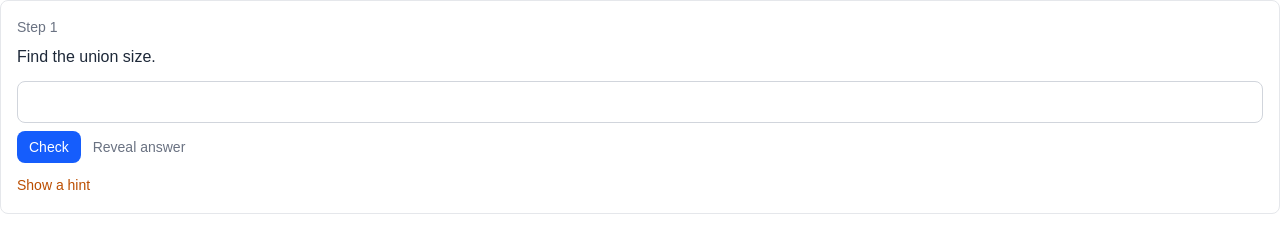
Test: StepCard › shows a try-again message on a wrong answer without solving
The width and height of the screenshot is (1280, 231).
Type "10" into the field at (640, 102), box [17,81,1263,123]
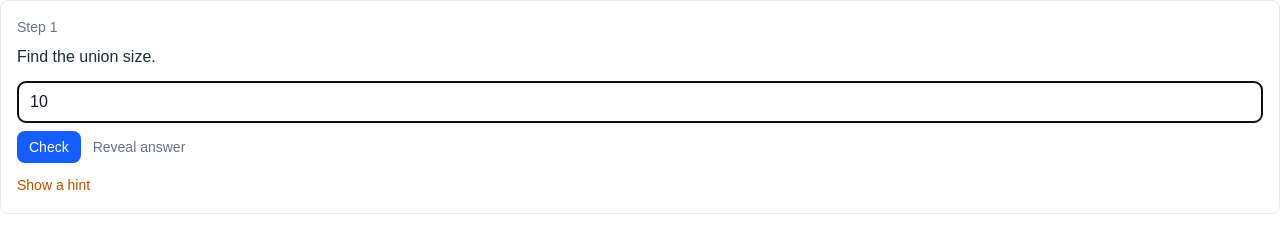
Click the button "Check" at (49, 147), box [17,131,81,163]
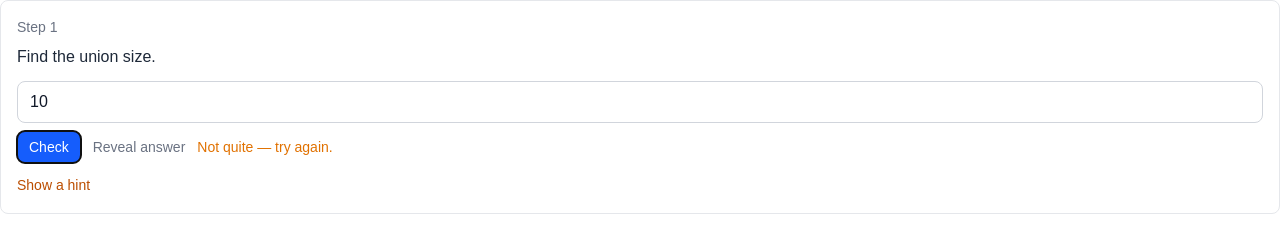
Now the text "Not quite — try again." is shown, box [197,137,333,157]
